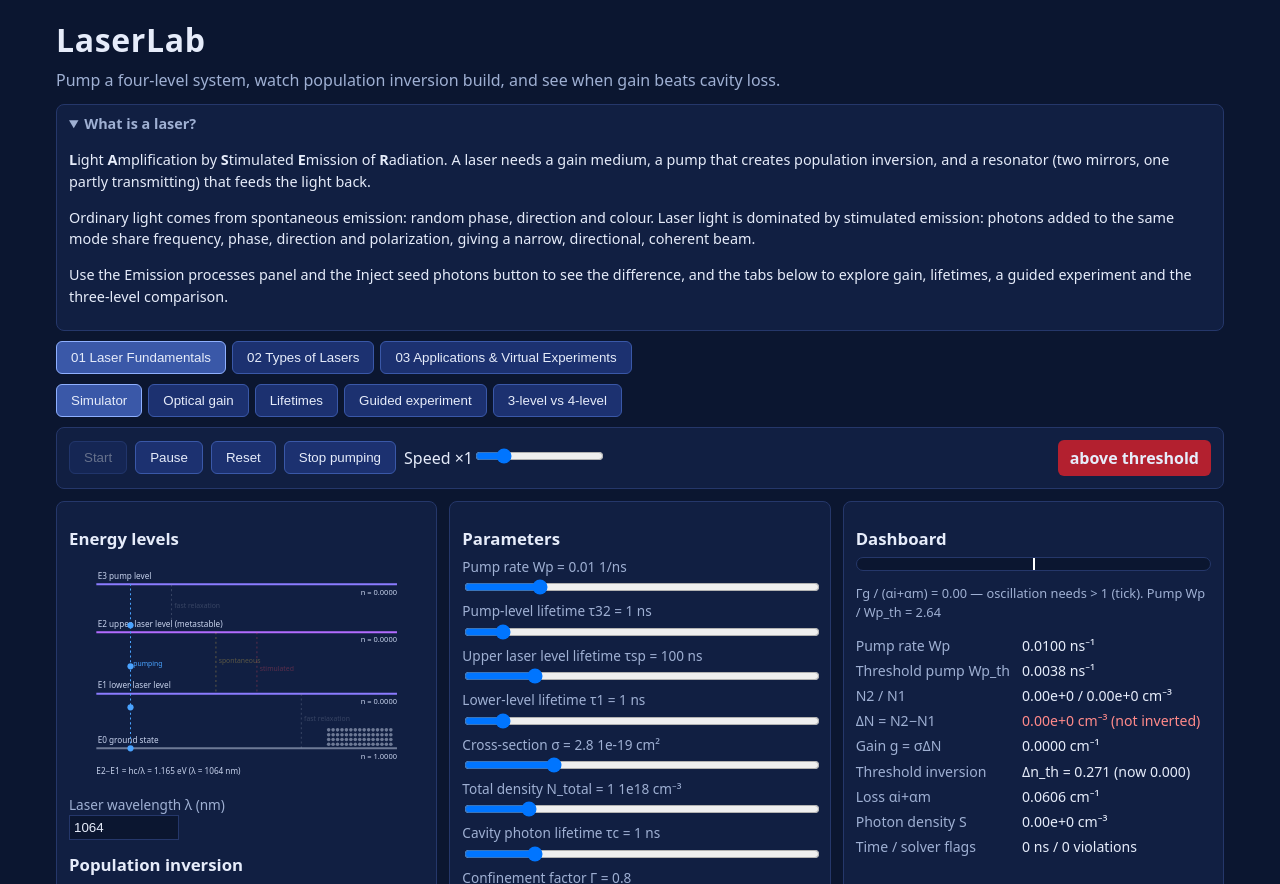
Scenario: new sections › line selection updates levels, photon energy and wavelength
The image size is (1280, 884).
Click the button "03 Applications & Virtual Experiments" at (506, 357), box [380, 341, 632, 374]
(page scrolled)
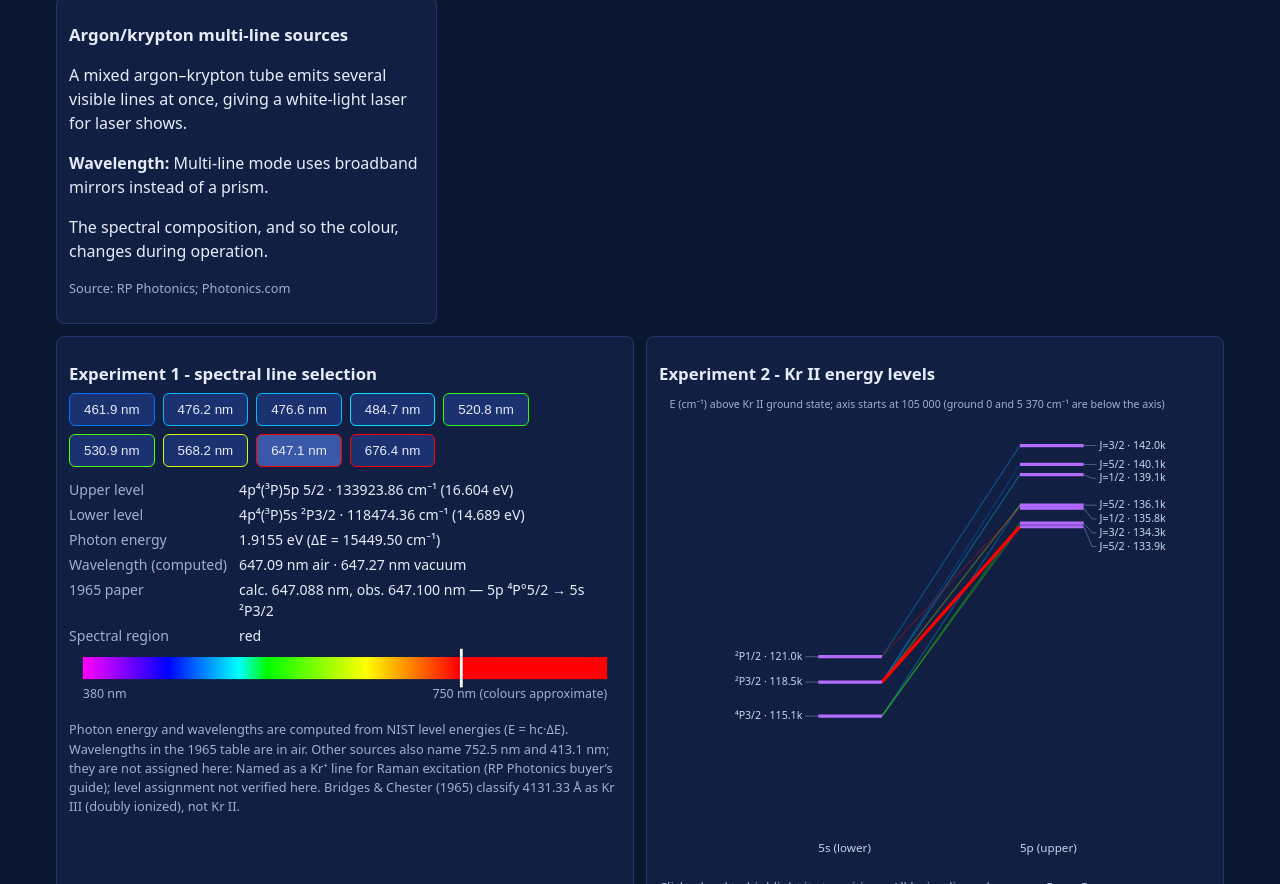
Result: the text with test id "kr-nm" shows "647." at [239, 555, 283, 574]
Click the button "568.2 nm" at (205, 450), box [163, 434, 248, 467]
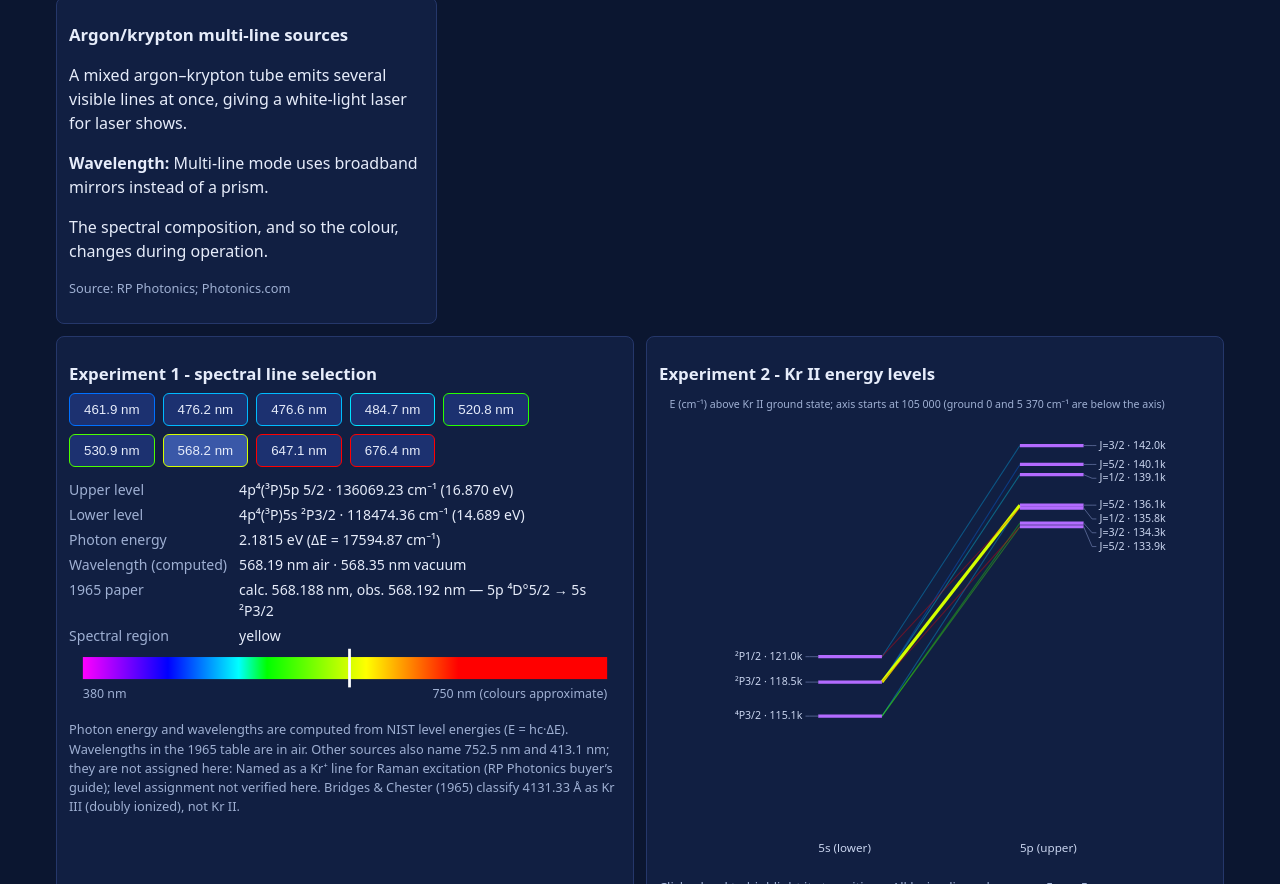
Result: the text with test id "kr-nm" shows "568." at [239, 555, 283, 574]
Result: the text with test id "kr-up" shows "136069.23" at [336, 480, 404, 499]
